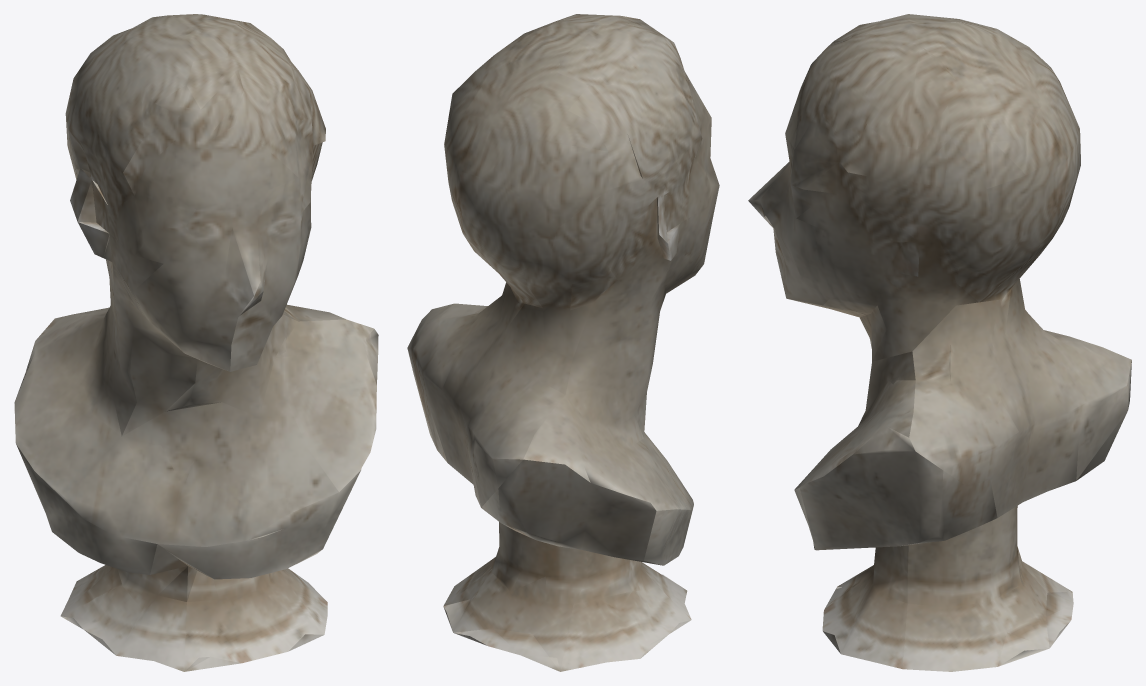
The model's file is bust_marble.glb.
3 renders of one model, left to right at view 1: azimuth 30°, elevation 25°; view 2: azimuth 150°, elevation 25°; view 3: azimuth 270°, elevation 25°, orthographic. The views are drawn at different scales.
Parts seen in each view (by area): view 1: mesh; view 2: mesh; view 3: mesh.
Boxes of the visible parts, x1,y1,x2,y2 form: mesh: (14,14,378,671); mesh: (407,14,719,671); mesh: (748,14,1131,671).
Bounding box in the file's own units: 0.2715 × 0.5149 × 0.3002.
Materials: 1 (1 with a texture image).
